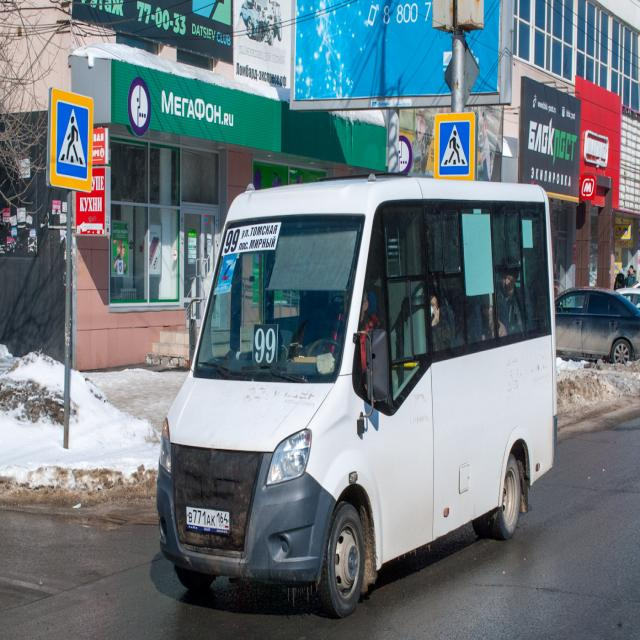number-of-bus: (255, 326, 278, 366), (226, 227, 242, 254)
